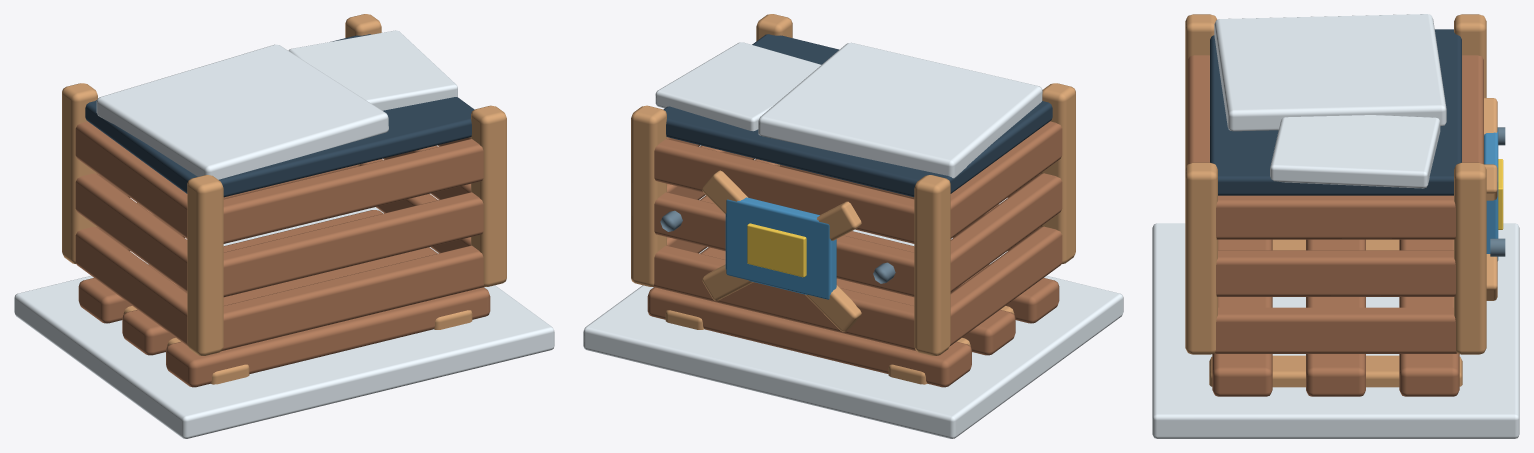
Rendered from cargo_crate.glb.
3 renders of one model, left to right at view 1: azimuth 30°, elevation 25°; view 2: azimuth 150°, elevation 25°; view 3: azimuth 270°, elevation 25°, orthographic. The views are drawn at different scales.
Parts seen in each view (by area): view 1: cargo_crate; view 2: cargo_crate; view 3: cargo_crate.
Part boxes in pixels (left/top/right/bottom): cargo_crate: left=14, top=14, right=554, bottom=438; cargo_crate: left=583, top=14, right=1123, bottom=438; cargo_crate: left=1152, top=14, right=1519, bottom=438.
Bounding box in the file's own units: 1.68 × 1.05 × 1.34.
